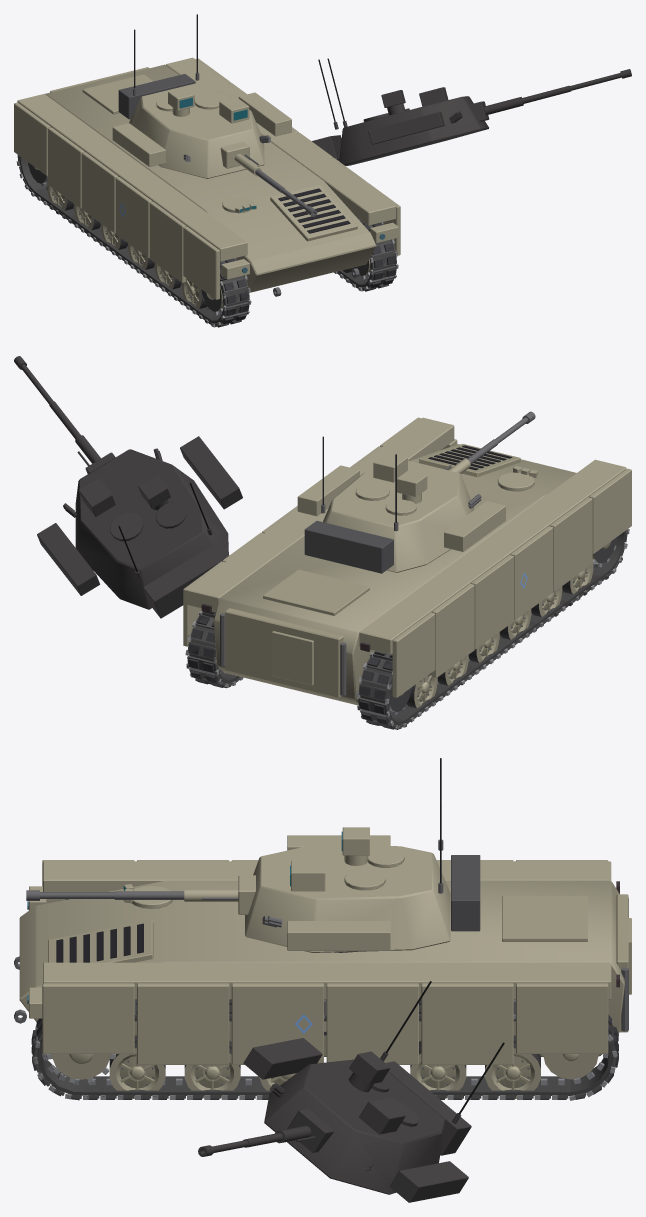
The model's file is ifv__type_89_ifv.glb.
The picture shows the model from 3 angles, top to bottom: view 1: azimuth 30°, elevation 25°; view 2: azimuth 150°, elevation 25°; view 3: azimuth 270°, elevation 25°; orthographic projection. The views are drawn at different scales.
Parts seen in each view (by area): view 1: Hull_Mesh, Turret_Mesh, Wreck, Track_L_Mesh, Track_R_Mesh, Gun_Mesh, Wheel_L5_Mesh; view 2: Hull_Mesh, Wreck, Turret_Mesh, Track_L_Mesh, Track_R_Mesh, Gun_Mesh, Wheel_L0_Mesh; view 3: Hull_Mesh, Wreck, Turret_Mesh, Track_R_Mesh, Gun_Mesh, Wheel_R0_Mesh, Wheel_R5_Mesh, Wheel_R4_Mesh, Sprocket_R_Mesh, Wheel_R1_Mesh, Idler_R_Mesh.
Boxes of the visible parts, x1,y1,x2,y2 form: Hull_Mesh: [14, 57, 400, 299]; Turret_Mesh: [112, 14, 291, 178]; Wreck: [17, 58, 631, 327]; Track_L_Mesh: [16, 155, 251, 327]; Track_R_Mesh: [334, 216, 398, 291]; Gun_Mesh: [220, 142, 317, 216]; Wheel_L5_Mesh: [181, 278, 206, 308]; Hull_Mesh: [183, 417, 631, 705]; Wreck: [14, 356, 628, 729]; Turret_Mesh: [297, 436, 505, 573]; Track_L_Mesh: [356, 529, 629, 729]; Track_R_Mesh: [185, 610, 242, 688]; Gun_Mesh: [444, 411, 535, 473]; Wheel_L0_Mesh: [406, 672, 437, 708]; Hull_Mesh: [14, 860, 631, 1064]; Wreck: [31, 899, 618, 1202]; Turret_Mesh: [245, 758, 480, 952]; Track_R_Mesh: [32, 999, 618, 1100]; Gun_Mesh: [26, 875, 255, 914]; Wheel_R0_Mesh: [485, 1035, 540, 1098]; Wheel_R5_Mesh: [109, 1035, 165, 1098]; Wheel_R4_Mesh: [184, 1040, 240, 1097]; Sprocket_R_Mesh: [46, 1054, 116, 1083]; Wheel_R1_Mesh: [410, 1041, 466, 1097]; Idler_R_Mesh: [543, 1054, 598, 1079].
Size of what is drawn, in the model's own units: 8.89 by 3.37 by 7.17.
